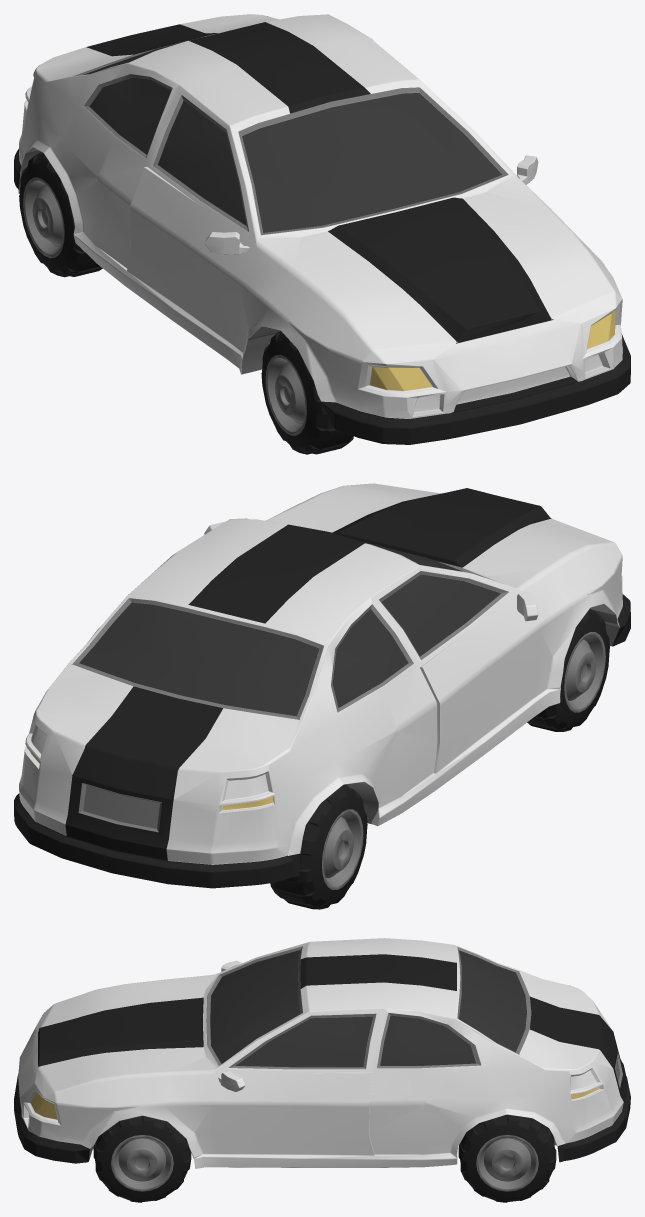
File: roadster.glb
3 renders of one model, top to bottom at view 1: azimuth 30°, elevation 25°; view 2: azimuth 150°, elevation 25°; view 3: azimuth 270°, elevation 25°, orthographic. The views are drawn at different scales.
Parts seen in each view (by area): view 1: Sports, FrontWheel_R, BackWheels; view 2: Sports, BackWheels, FrontWheel_R; view 3: Sports, BackWheels, FrontWheel_L.
Part boxes in pixels (x1,y1,x2,y2): Sports: [14, 14, 630, 444]; FrontWheel_R: [261, 331, 353, 454]; BackWheels: [19, 152, 102, 277]; Sports: [14, 483, 630, 888]; BackWheels: [270, 784, 367, 909]; FrontWheel_R: [527, 608, 609, 731]; Sports: [14, 938, 630, 1168]; BackWheels: [458, 1115, 556, 1202]; FrontWheel_L: [93, 1116, 191, 1202].
Size of the model in its own units: 2.66 by 1.86 by 5.65.
Materials: 4 (1 with a texture image).
